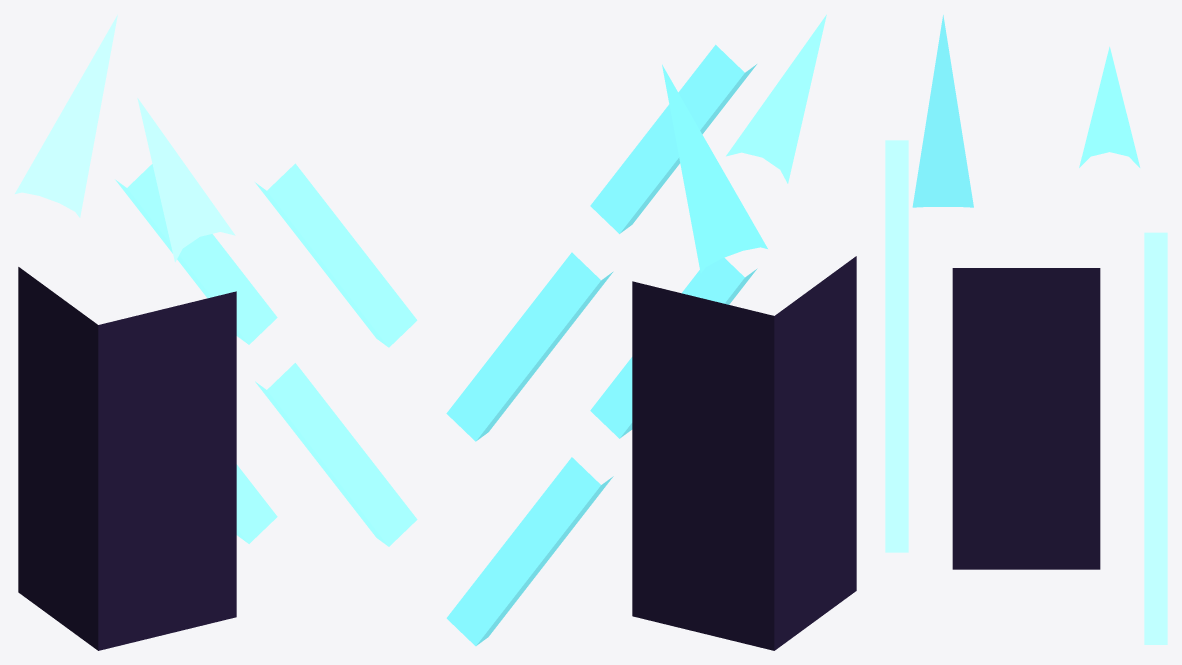
File: leshrac.glb
3 renders of one model, left to right at view 1: azimuth 30°, elevation 25°; view 2: azimuth 150°, elevation 25°; view 3: azimuth 270°, elevation 25°, orthographic. The views are drawn at different scales.
Parts seen in each view (by area): view 1: leshrac-bone-torso, leshrac-arc-3, leshrac-arc-1, leshrac-horn-r, leshrac-arc-2, leshrac-horn-l, leshrac-arc-0; view 2: leshrac-bone-torso, leshrac-arc-0, leshrac-arc-2, leshrac-arc-3, leshrac-horn-r, leshrac-horn-l, leshrac-arc-1; view 3: leshrac-bone-torso, leshrac-horn-l, leshrac-arc-2, leshrac-arc-3, leshrac-arc-0, leshrac-arc-1, leshrac-horn-r.
Boxes of the visible parts, box(x1,y1,x2,y2) form: leshrac-bone-torso: box(18, 267, 236, 650); leshrac-arc-3: box(255, 163, 417, 347); leshrac-arc-1: box(255, 363, 417, 546); leshrac-horn-r: box(15, 14, 117, 217); leshrac-arc-2: box(115, 164, 277, 344); leshrac-horn-l: box(137, 98, 235, 262); leshrac-arc-0: box(236, 464, 277, 543); leshrac-bone-torso: box(632, 256, 856, 650); leshrac-arc-0: box(446, 457, 613, 646); leshrac-arc-2: box(446, 252, 613, 441); leshrac-arc-3: box(590, 44, 756, 233); leshrac-horn-r: box(662, 64, 767, 273); leshrac-horn-l: box(726, 14, 826, 183); leshrac-arc-1: box(590, 257, 757, 438); leshrac-bone-torso: box(952, 268, 1100, 569); leshrac-horn-l: box(912, 15, 973, 207); leshrac-arc-2: box(1144, 232, 1167, 460); leshrac-arc-3: box(885, 140, 908, 368); leshrac-arc-0: box(1144, 460, 1167, 644); leshrac-arc-1: box(885, 368, 908, 552); leshrac-horn-r: box(1079, 46, 1140, 167).
Size of the model in its own units: 0.6542 by 1.28 by 0.61.
